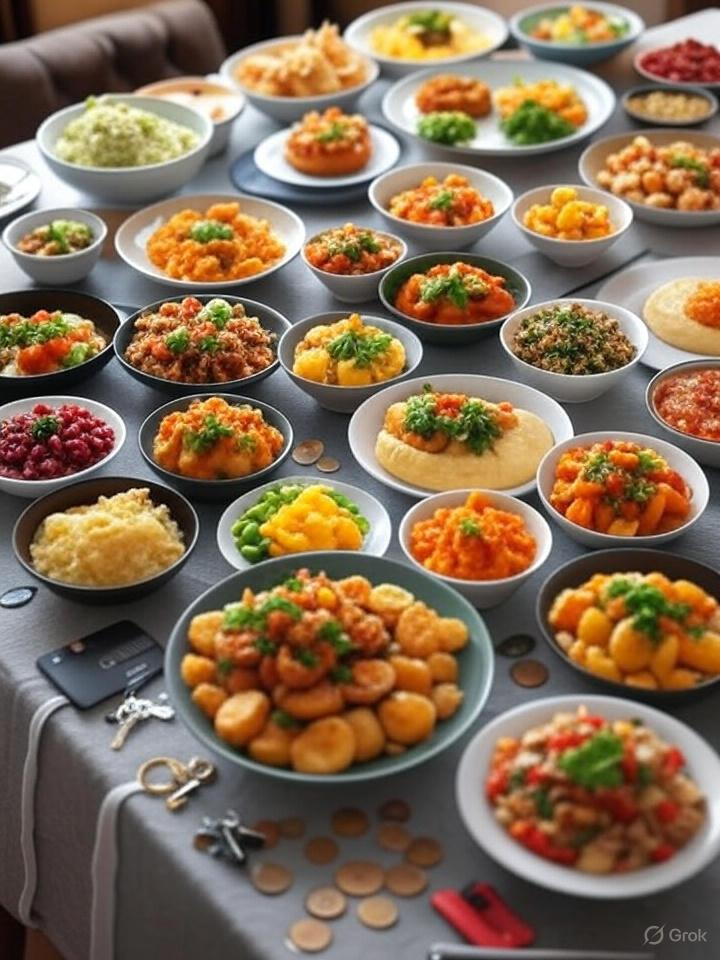Food-Detection: (232, 843, 440, 944), (42, 618, 165, 708), (136, 744, 218, 817), (292, 441, 352, 477)
